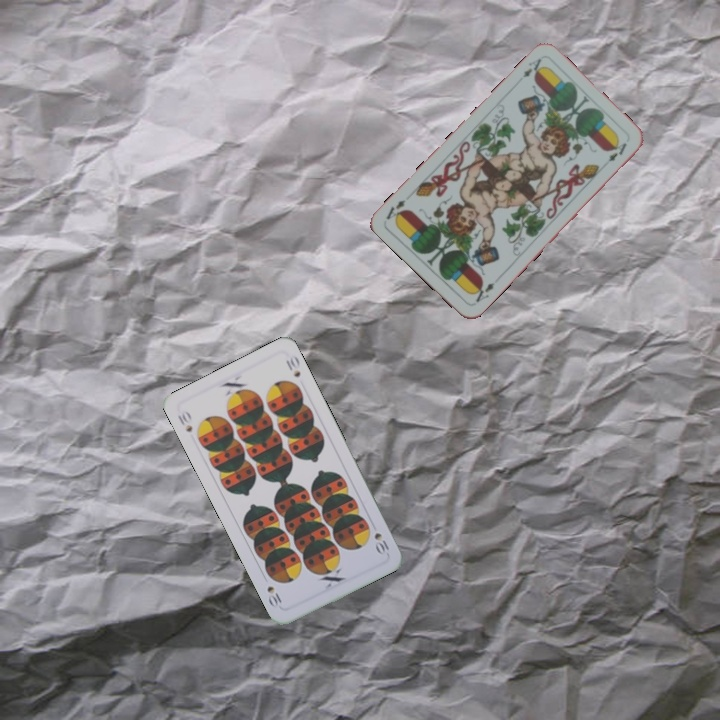EA: (468, 278, 497, 305), (518, 54, 546, 80)
S10: (173, 406, 195, 435), (370, 528, 392, 556)
